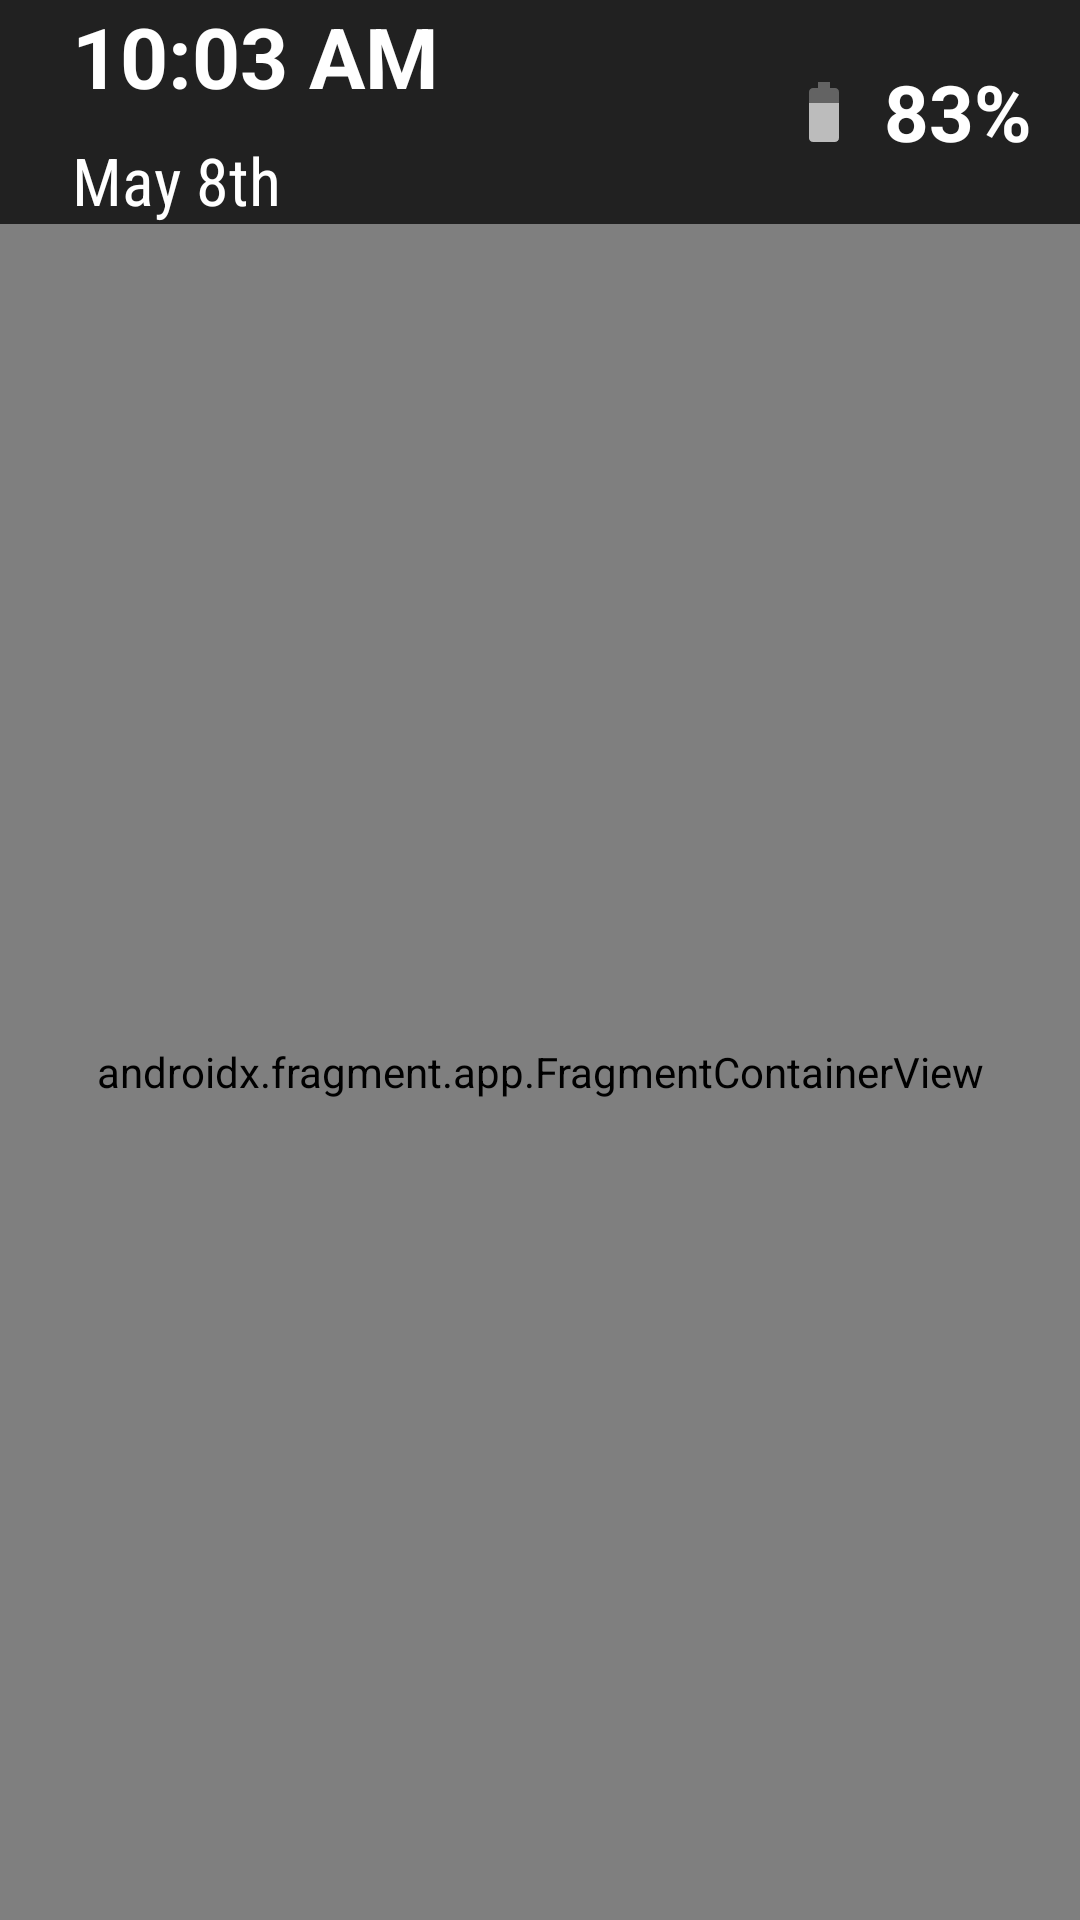

Icons on this 1080w x 1920h Android screen, each with the point to tap as (x,y):
battery: (824,112)
